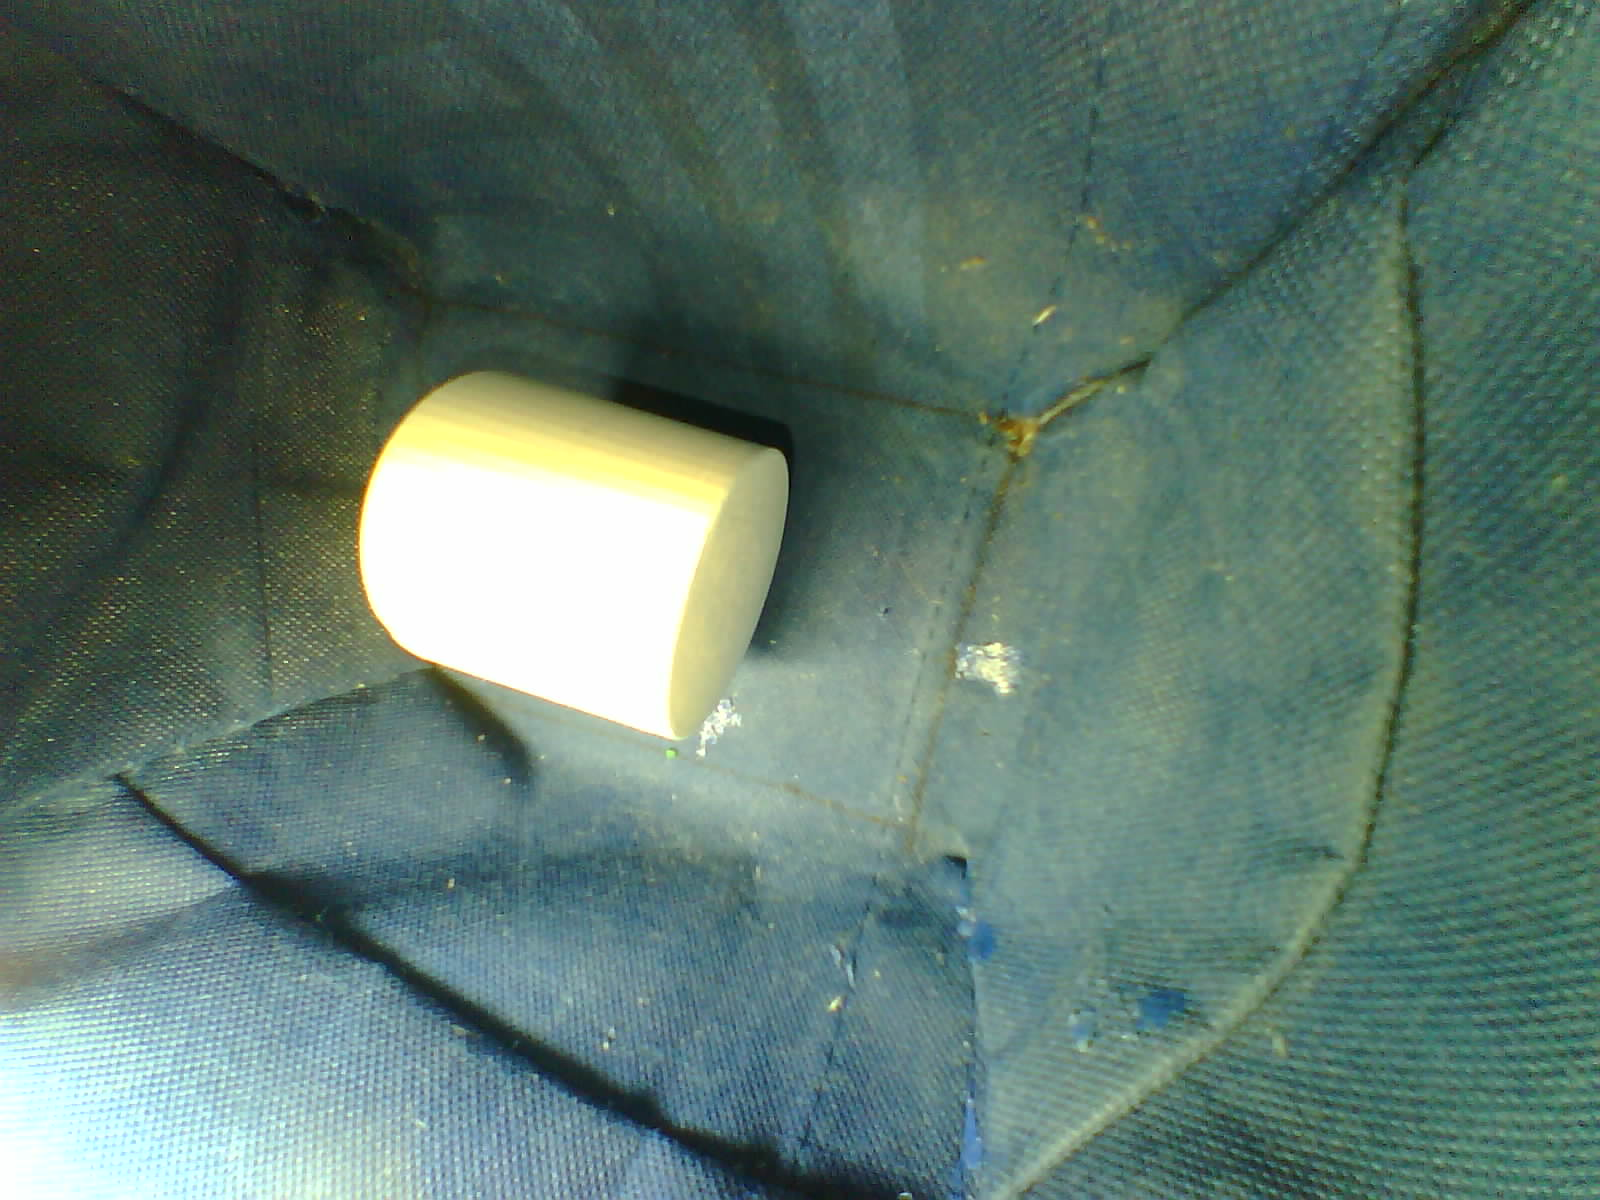cylinder-hard: (345, 359, 800, 754)
